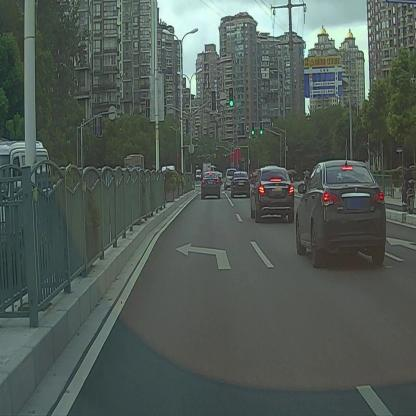Green Light: (229, 88, 234, 107), (259, 121, 264, 136), (252, 122, 255, 136)
